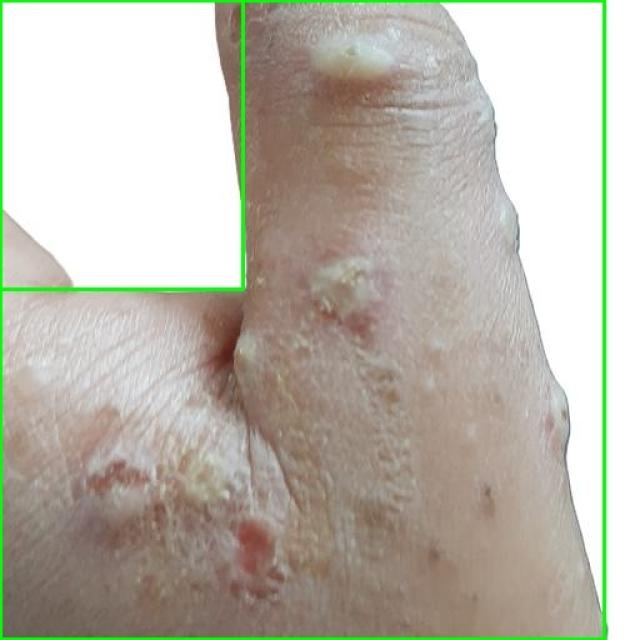Scabies: (0, 0, 604, 639), (0, 0, 244, 290)
